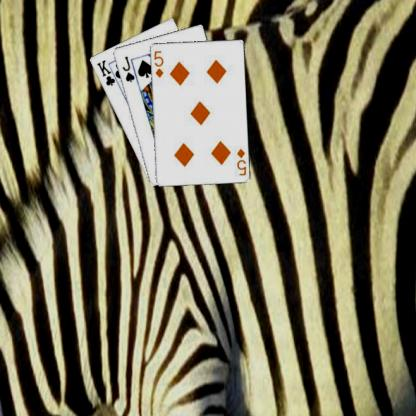5D: (151, 48, 164, 78), (234, 146, 247, 176)
JS: (119, 53, 136, 84)
KC: (93, 57, 120, 87)
